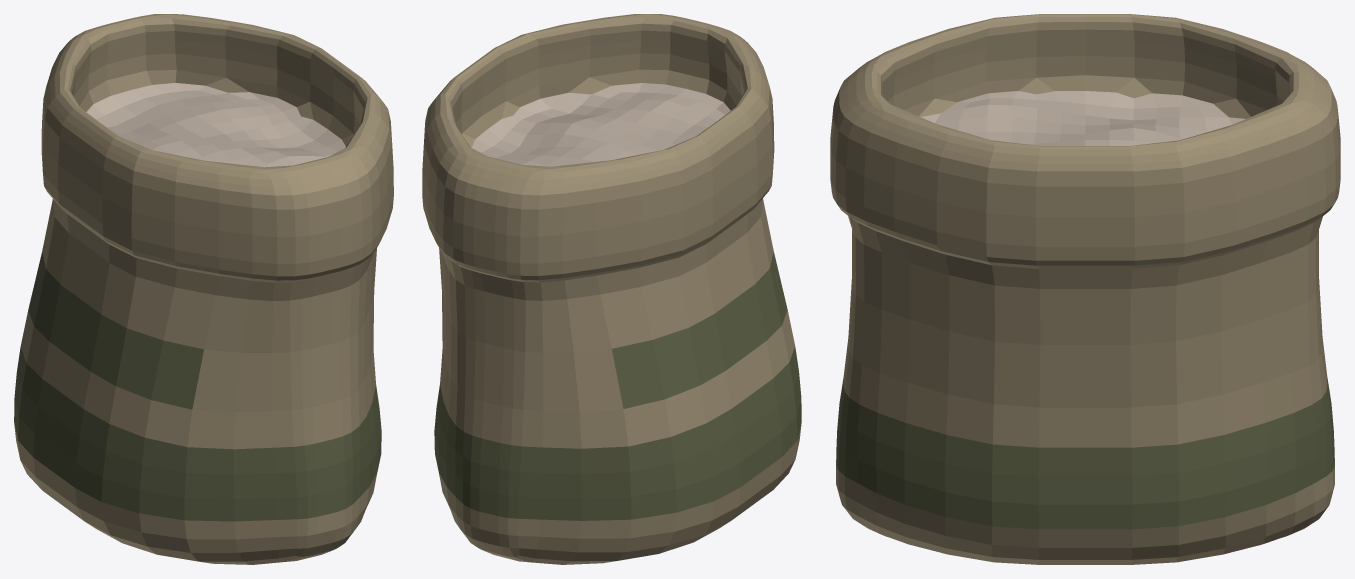
Rendered from sack2.fbx.
3 views of the same model, side by side, from view 1: azimuth 30°, elevation 25°; view 2: azimuth 150°, elevation 25°; view 3: azimuth 270°, elevation 25° (orthographic). The views are drawn at different scales.
Parts seen in each view (by area): view 1: Cube; view 2: Cube; view 3: Cube.
Boxes of the visible parts, box(x1,y1,x2,y2) form: Cube: box(14, 14, 393, 564); Cube: box(422, 14, 801, 564); Cube: box(830, 14, 1340, 564).
Bounding box in the file's own units: 169 × 213 × 222.
